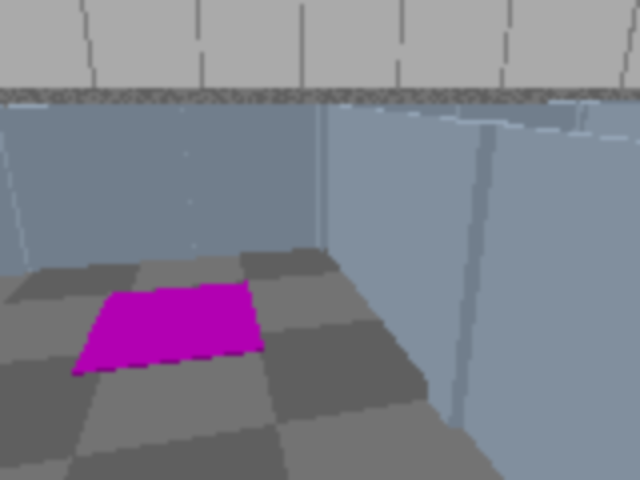goal_zone: (72, 282, 264, 376)
